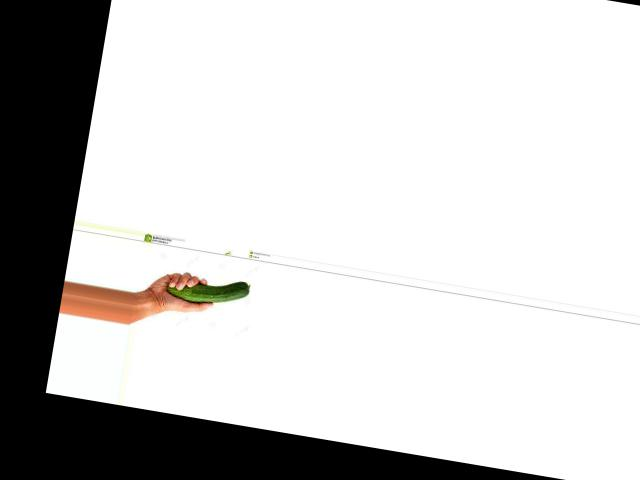cucumber: (166, 269, 251, 309)
